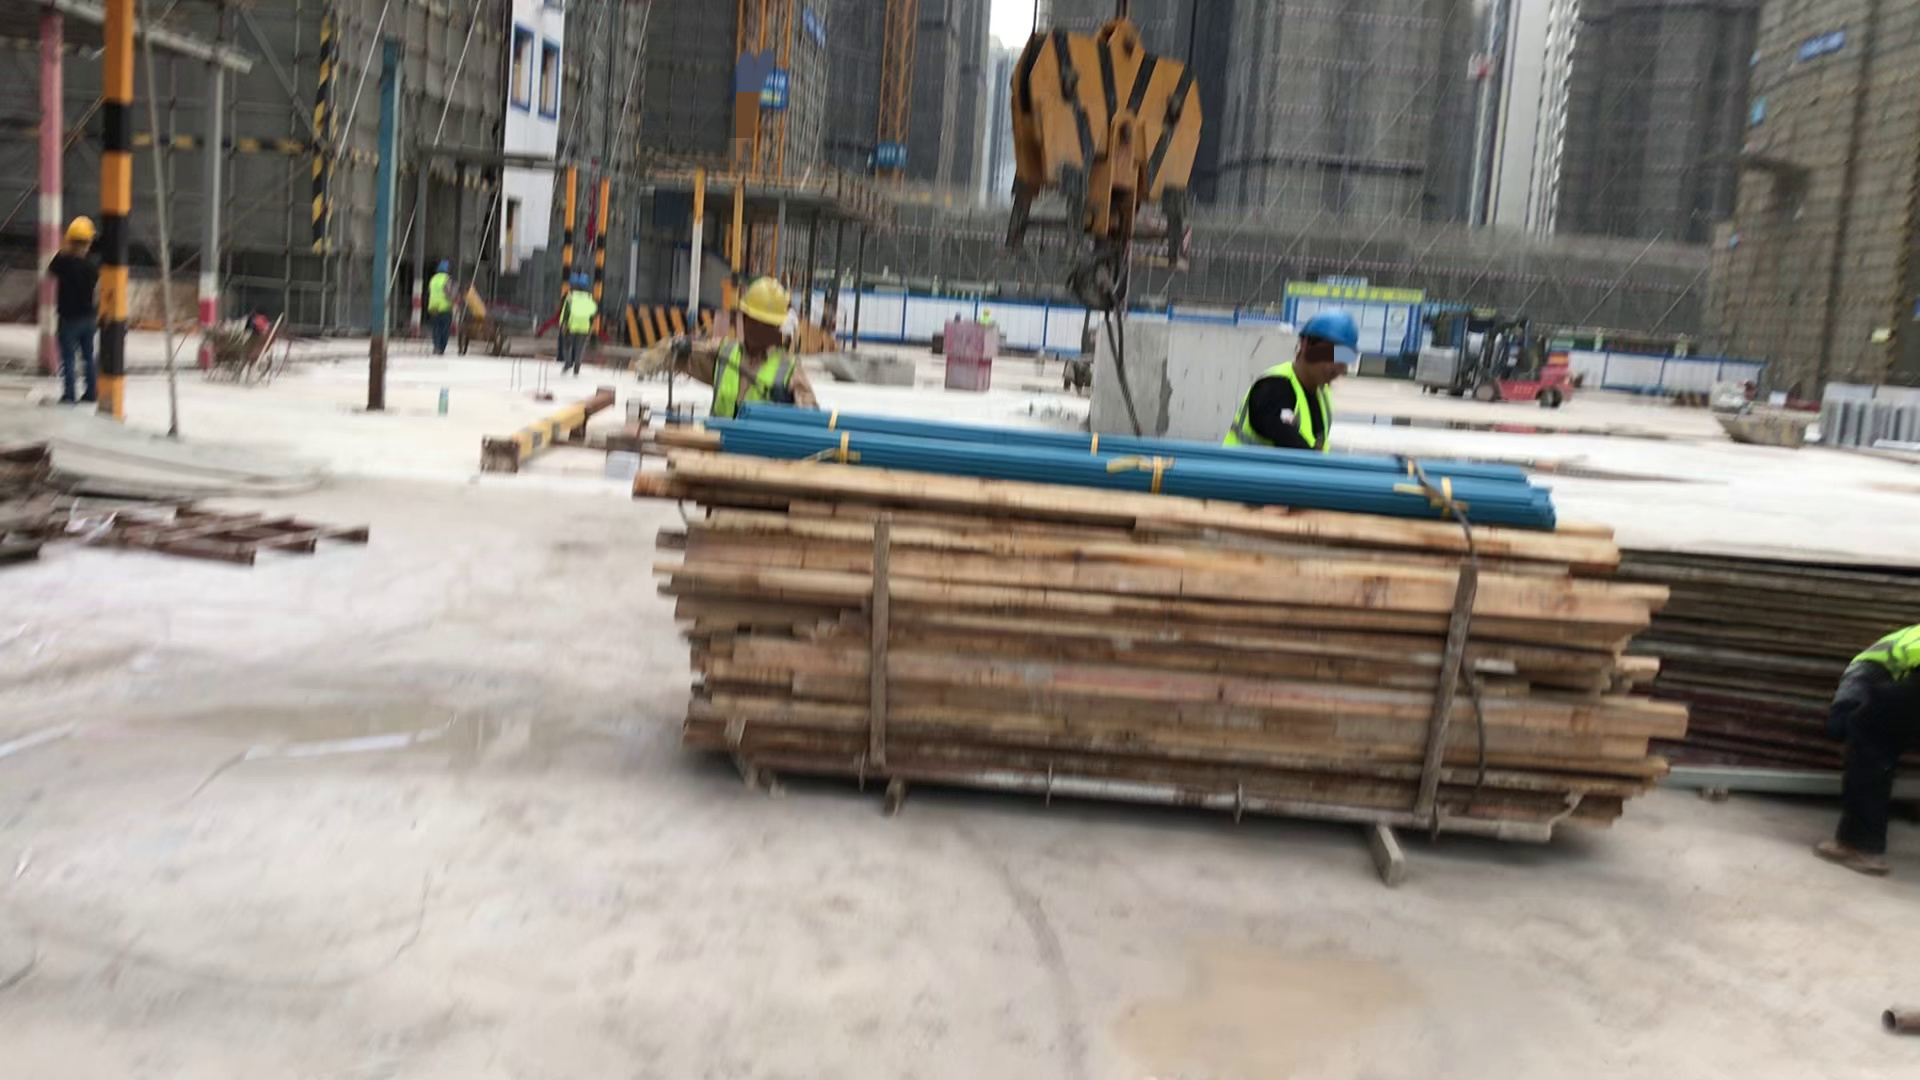board: (1622, 539, 1919, 778)
brick: (1416, 345, 1454, 387)
handcart: (208, 306, 303, 386)
helmet: (718, 271, 814, 341), (1295, 295, 1365, 351), (52, 207, 102, 246), (565, 268, 594, 289), (431, 248, 452, 271)
hook: (1011, 5, 1234, 269)
hopper: (820, 349, 921, 391), (1717, 409, 1813, 452)
person: (697, 272, 817, 446), (1215, 295, 1349, 446), (44, 199, 114, 410), (556, 262, 598, 375), (422, 255, 466, 353)
vest: (1241, 350, 1341, 452), (710, 340, 810, 421), (563, 290, 591, 329), (425, 278, 451, 310)
wood: (649, 455, 1661, 847)
